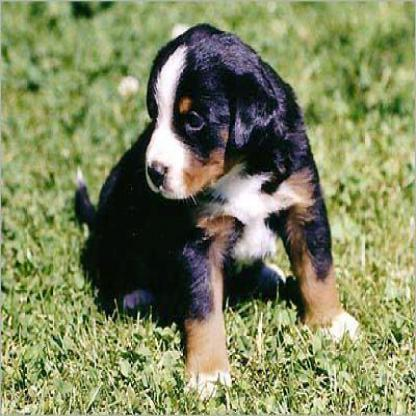EntleBucher: (70, 22, 365, 408)
